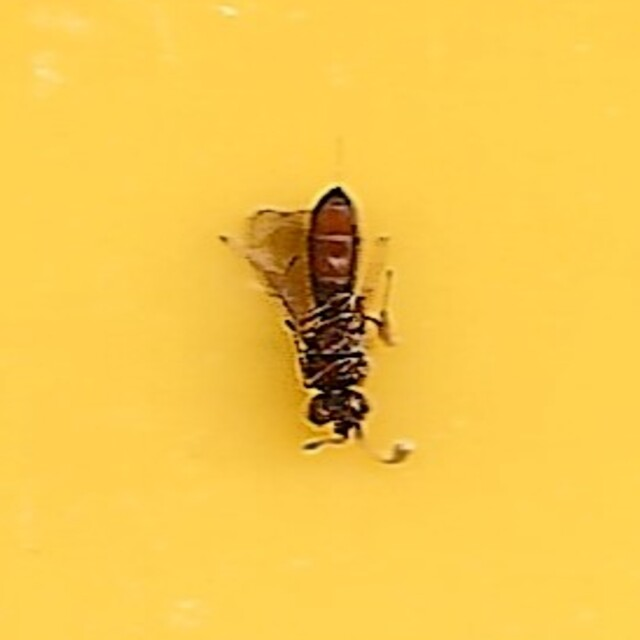Hymenoptera: (234, 180, 406, 460)
